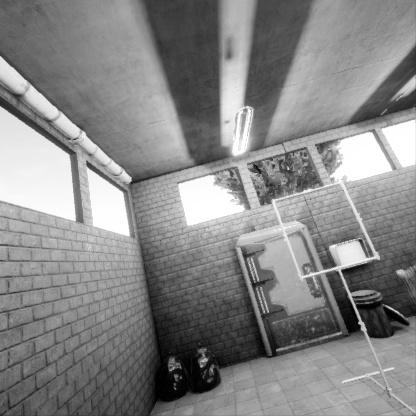gate: (271, 138, 383, 238)
